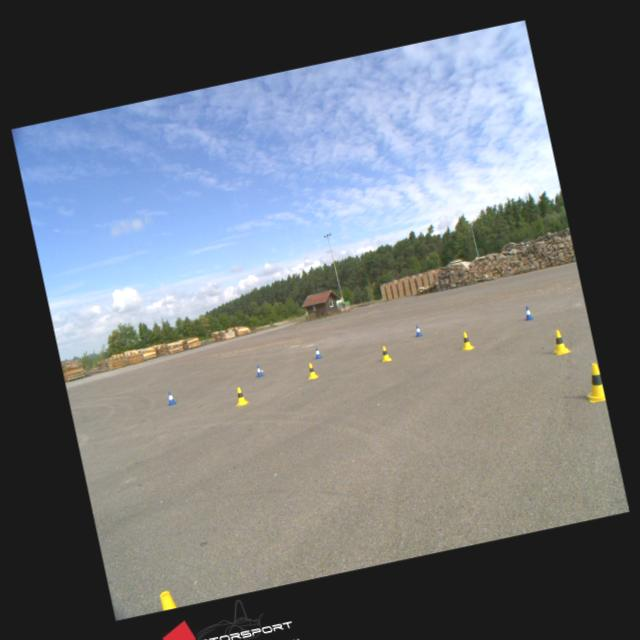blue_cone: (522, 304, 534, 320), (165, 390, 176, 406), (254, 363, 263, 378), (412, 324, 422, 336), (312, 346, 321, 358)
yellow_cone: (580, 362, 604, 402), (548, 328, 570, 354), (232, 385, 248, 405), (458, 330, 474, 349), (378, 344, 391, 361), (304, 362, 317, 378)
